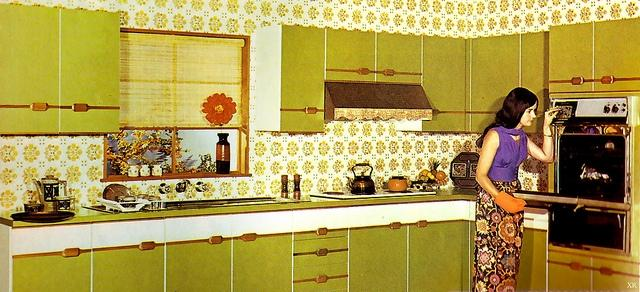orange: (436, 171, 446, 180), (422, 170, 429, 176)
